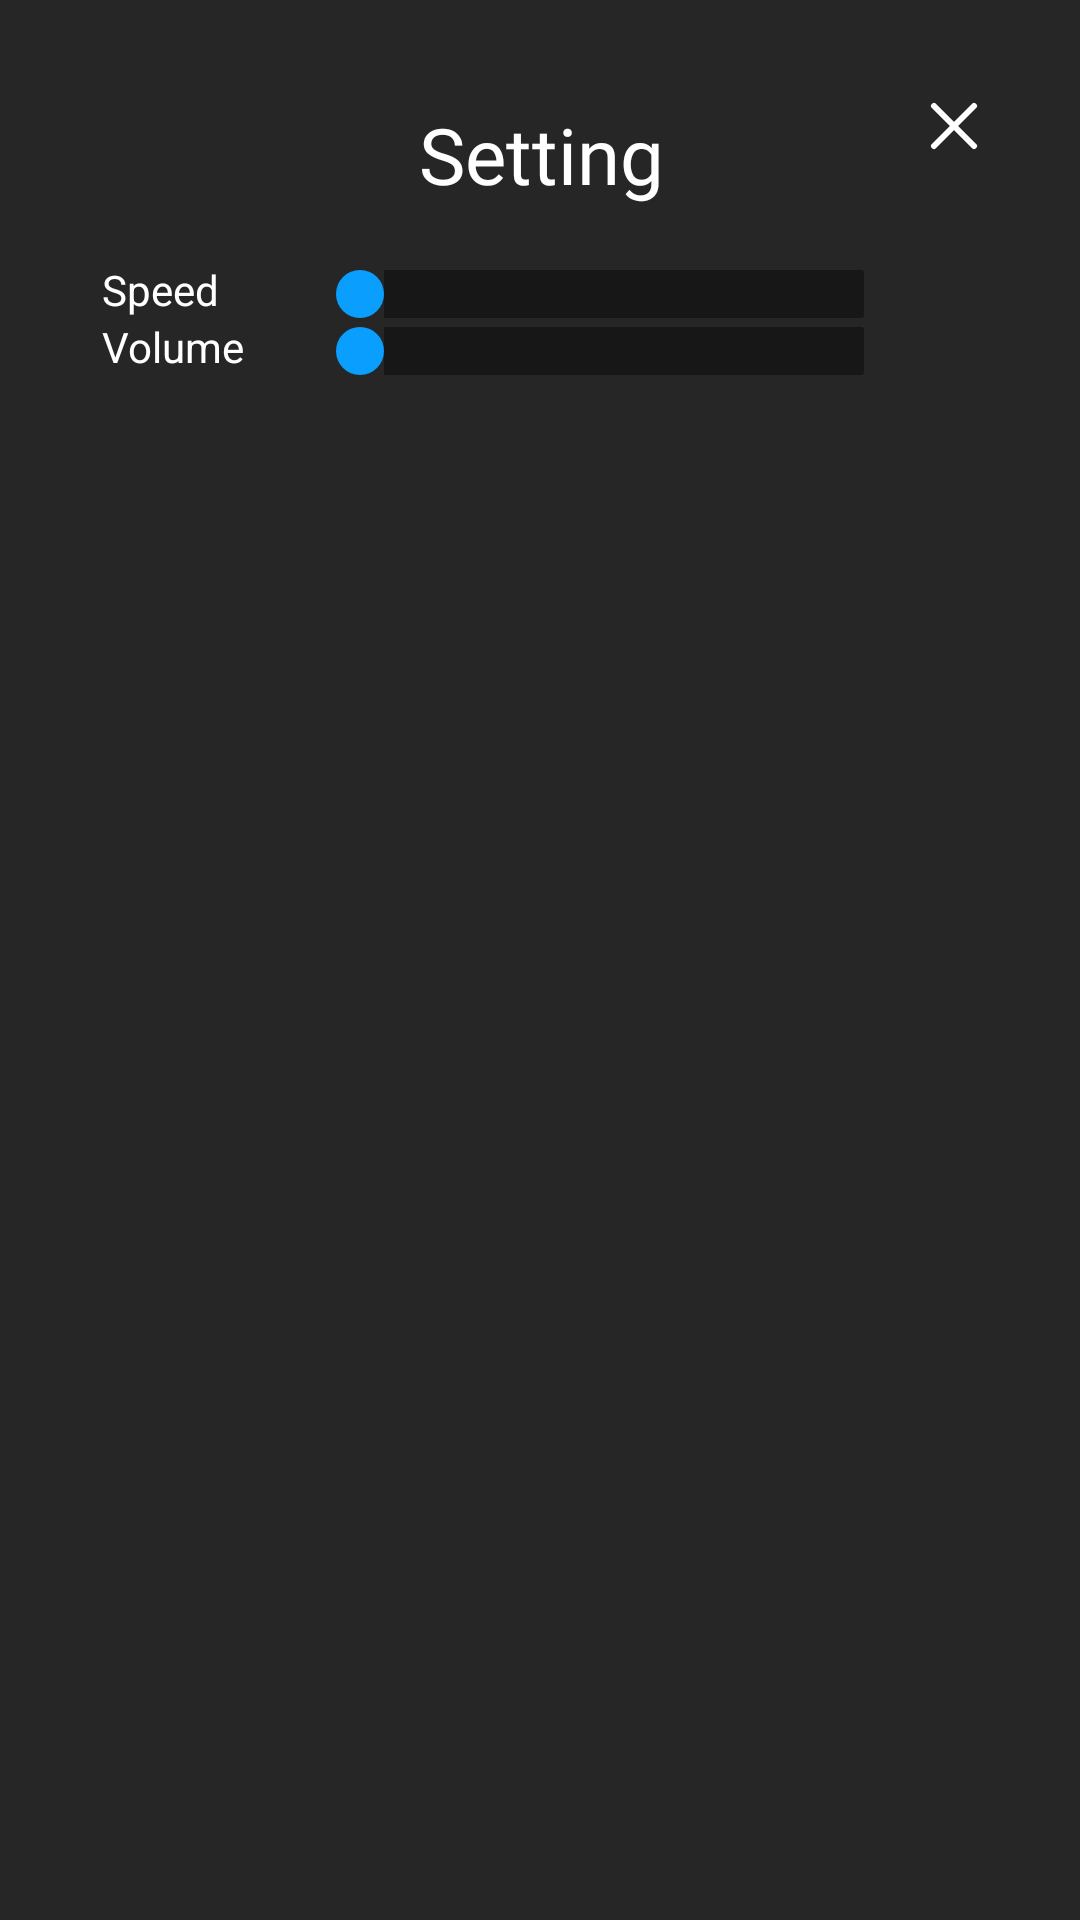

Icon bounding boxes for this 1080px×1920px phone screenshot, format (x1, y1, x2, y2):
close: (931, 103, 977, 149)
